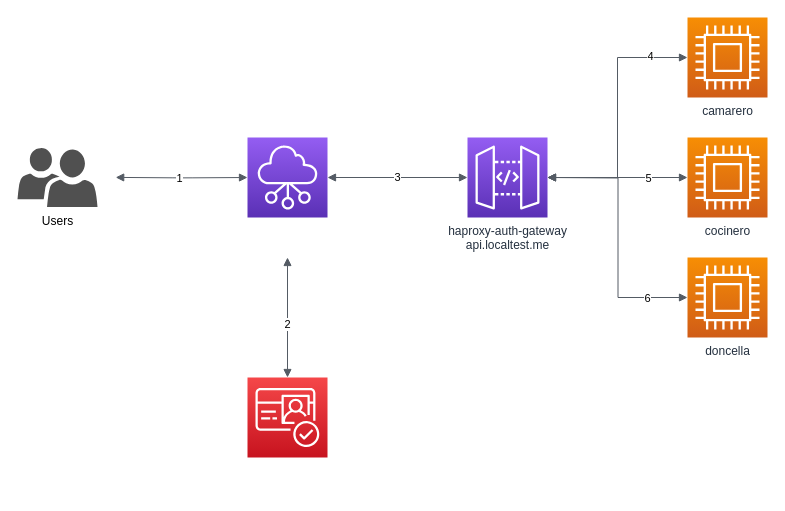
Some shapes in this 785 by 511 pixel diagram are drawn without their labels. Here are the shapes that lost their labels. From the top down, the centre of each, then its label:
(287,177): hotel-spa lukaszbudnik.github.io/hotel-spa
(287,417): Keycloak auth.localtest.me
